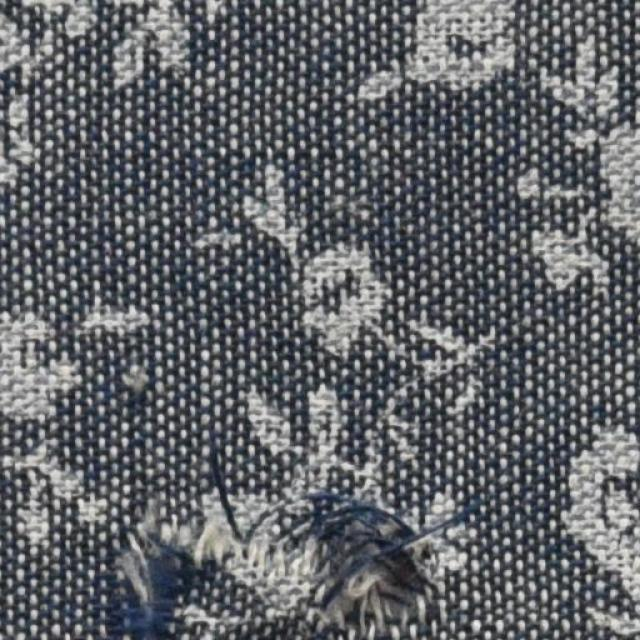Snag: (96, 470, 460, 639)
